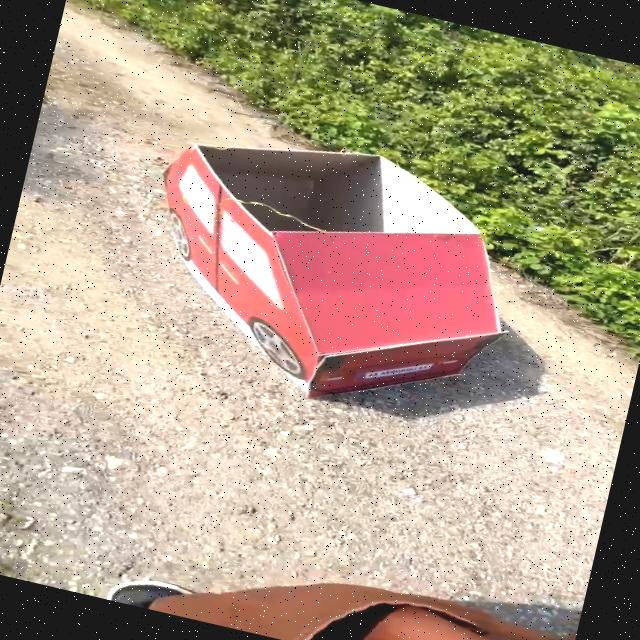red_car: (54, 70, 591, 454)
